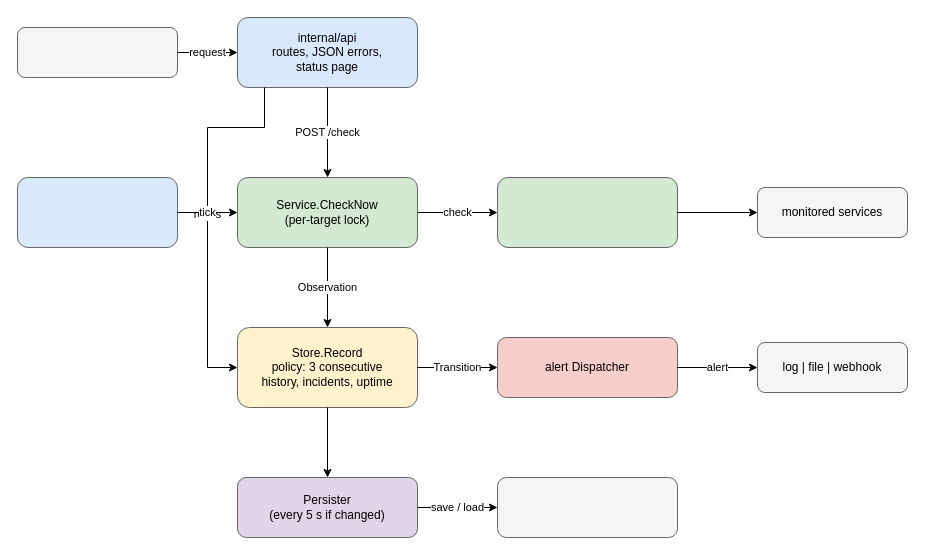
Some shapes in this 925 by 555 pixel diagram are drawn without their labels. Here are the shapes that lost their labels. From the top down, the box of each, then its label:
(16, 26, 178, 78): HTTP client / browser
(16, 176, 178, 248): scheduler goroutine (one per target, ticker = interval)
(496, 176, 678, 248): NetChecker HTTP / TCP / certificate
(496, 476, 678, 538): DATA_FILE (JSON snapshot)
